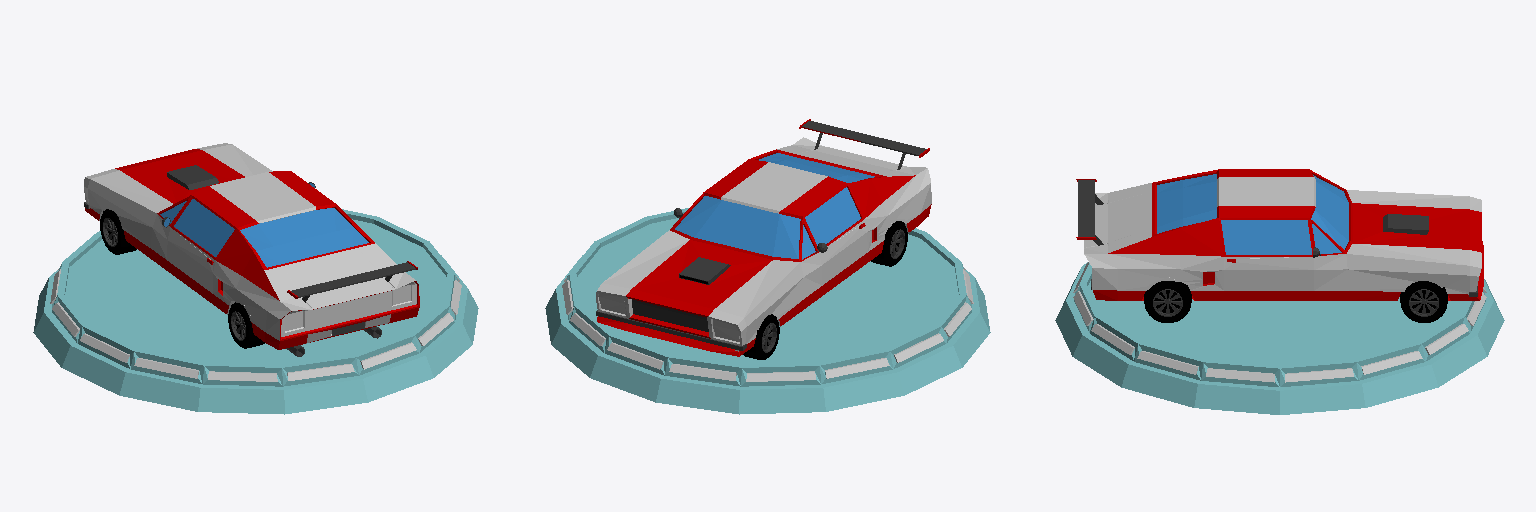
File: car_mtl.obj
The picture shows the model from 3 angles: view 1: azimuth 30°, elevation 25°; view 2: azimuth 150°, elevation 25°; view 3: azimuth 270°, elevation 25°; orthographic projection.
Parts seen in each view (by area): view 1: Cylinder.003, Cube, Cylinder.001, Cylinder.002; view 2: Cylinder.003, Cube, Cylinder.001, Cylinder.002; view 3: Cube, Cylinder.003, Cylinder.001, Cylinder.002.
Part boxes in pixels (bbox=[...]): Cylinder.003: bbox=[33, 209, 478, 414]; Cube: bbox=[84, 143, 419, 349]; Cylinder.001: bbox=[228, 302, 264, 348]; Cylinder.002: bbox=[100, 209, 136, 254]; Cylinder.003: bbox=[545, 208, 990, 414]; Cube: bbox=[596, 119, 931, 356]; Cylinder.001: bbox=[871, 221, 907, 266]; Cylinder.002: bbox=[743, 314, 779, 359]; Cube: bbox=[1076, 169, 1483, 300]; Cylinder.003: bbox=[1055, 262, 1504, 414]; Cylinder.001: bbox=[1144, 281, 1191, 322]; Cylinder.002: bbox=[1400, 281, 1447, 322].
Size of the model in its own units: 5.26 by 1.67 by 5.26.